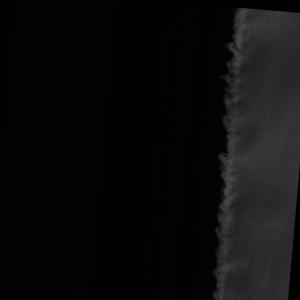Damage: (199, 7, 269, 300)
